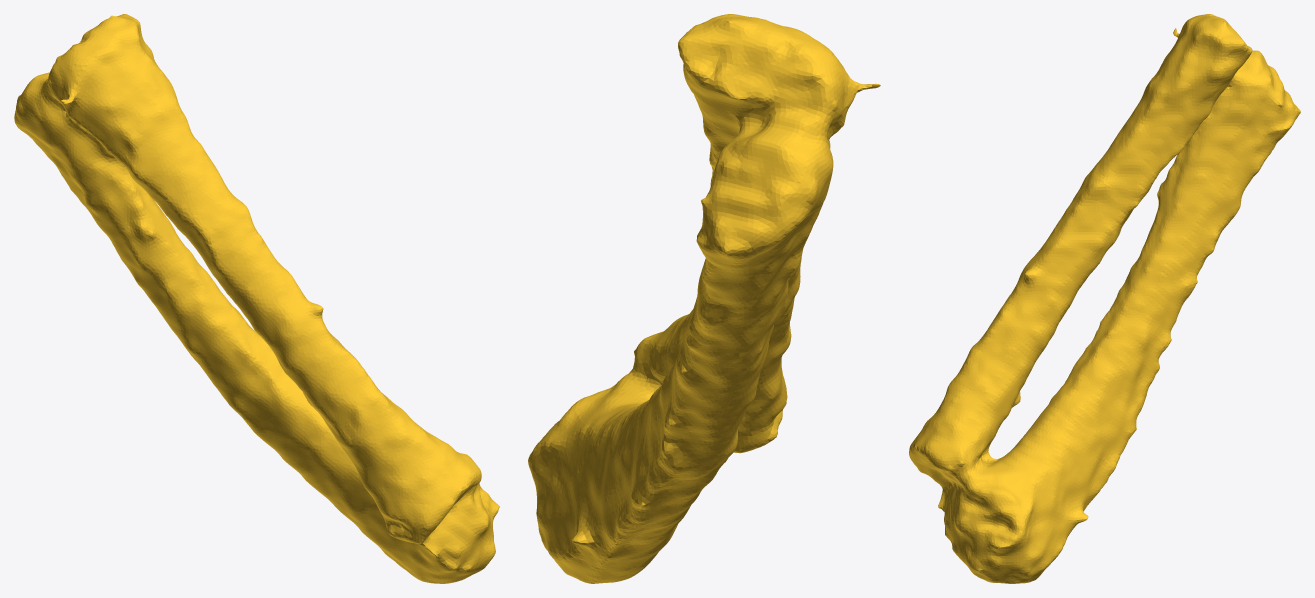
The model's file is ulradL.glb.
3 renders of one model, left to right at view 1: azimuth 30°, elevation 25°; view 2: azimuth 150°, elevation 25°; view 3: azimuth 270°, elevation 25°, orthographic. The views are drawn at different scales.
Visible parts, largest first — view 1: ulradL; view 2: ulradL; view 3: ulradL.
Boxes of the visible parts, bbox=[...] form: ulradL: bbox=[14, 14, 499, 583]; ulradL: bbox=[528, 14, 880, 583]; ulradL: bbox=[909, 14, 1300, 583].
Size of the model in its own units: 0.00769 by 0.0112 by 0.00859.
